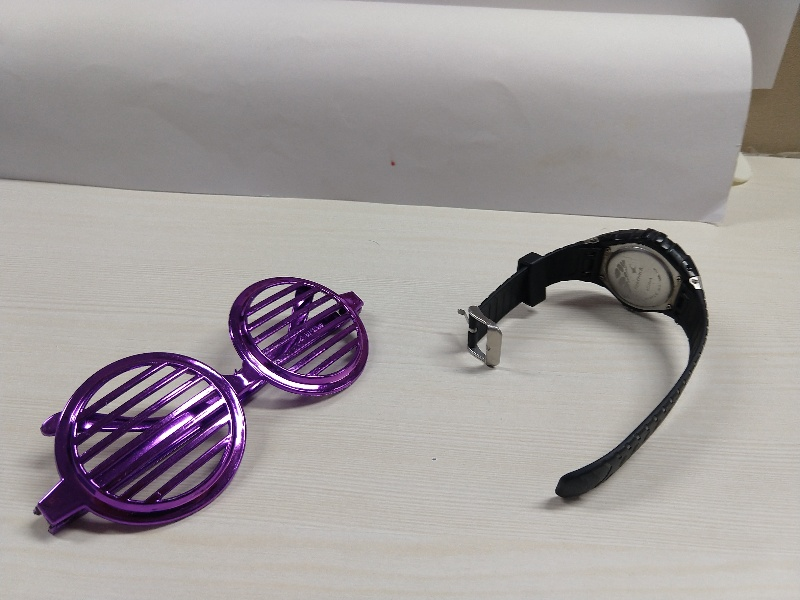shades: (30, 272, 377, 533)
watch: (446, 222, 725, 506)
